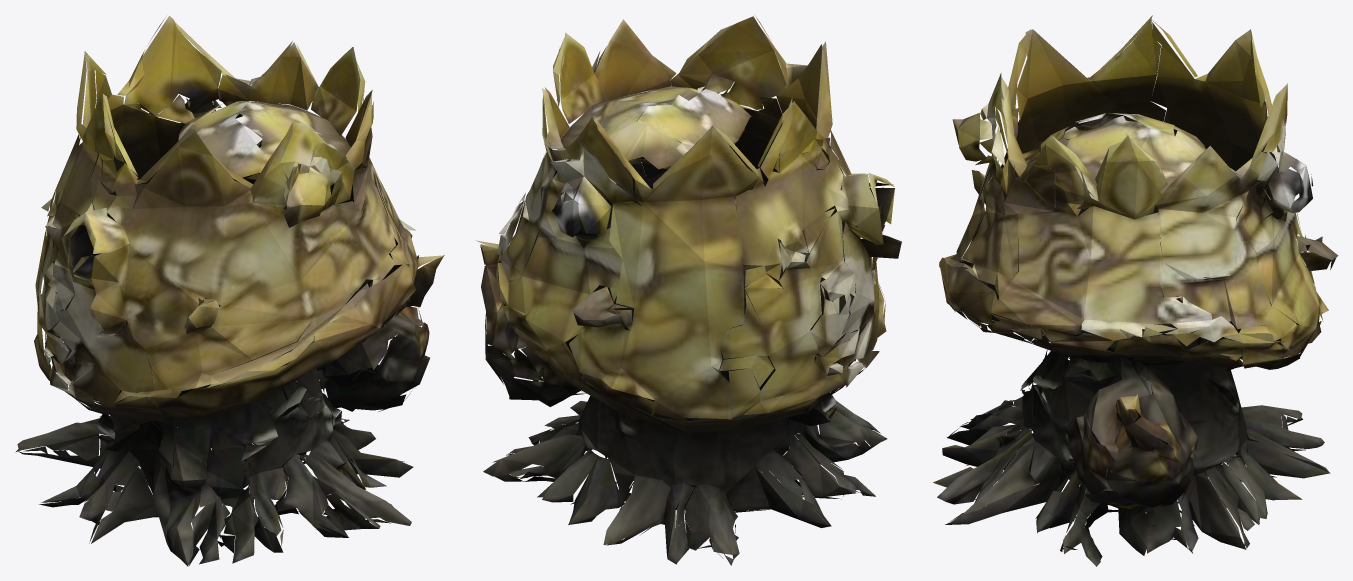
3 renders of one model, left to right at view 1: azimuth 30°, elevation 25°; view 2: azimuth 150°, elevation 25°; view 3: azimuth 270°, elevation 25°, orthographic.
Parts seen in each view (by area): view 1: world; view 2: world; view 3: world.
Part boxes in pixels (<box>): world: <box>15,16,444,566</box>; world: <box>475,16,901,565</box>; world: <box>933,15,1338,566</box>.
Size of the model in its own units: 0.9869 by 0.9972 by 0.8743.
1 material, 1 textured.
